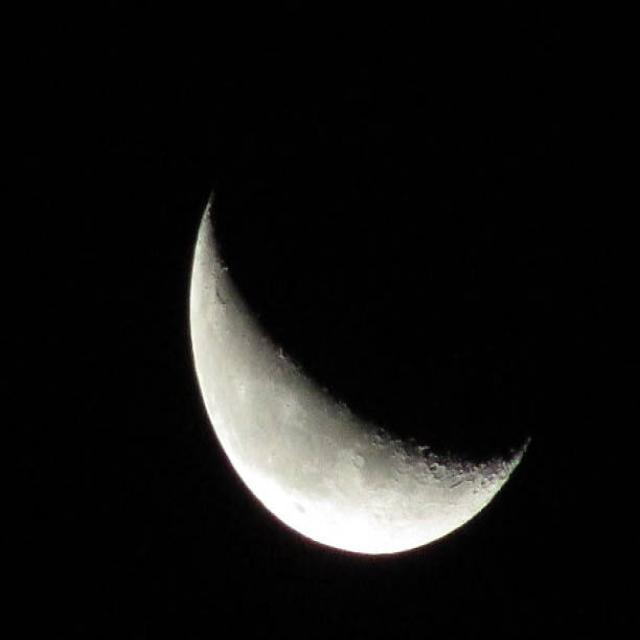moon: (191, 82, 551, 551)
